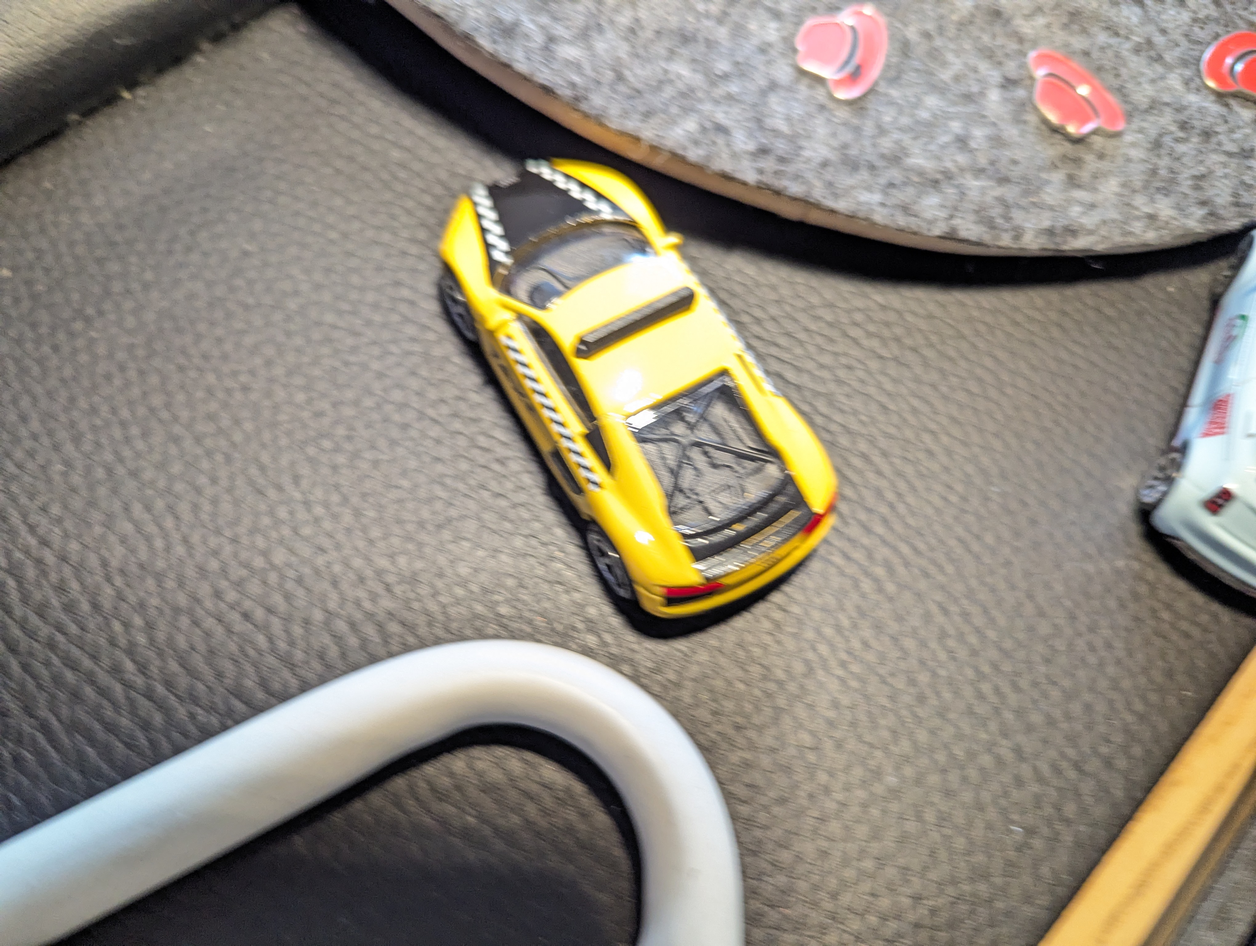Car: (388, 124, 867, 649), (1127, 209, 1256, 618)
Red-Hat: (1004, 25, 1131, 166), (784, 1, 905, 105), (1186, 7, 1256, 113)
Scratch: (843, 57, 868, 86)
